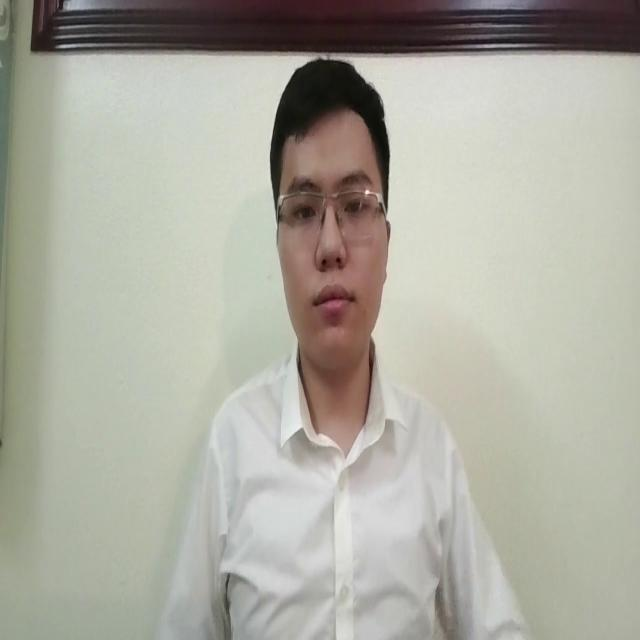student: (150, 50, 532, 640)
